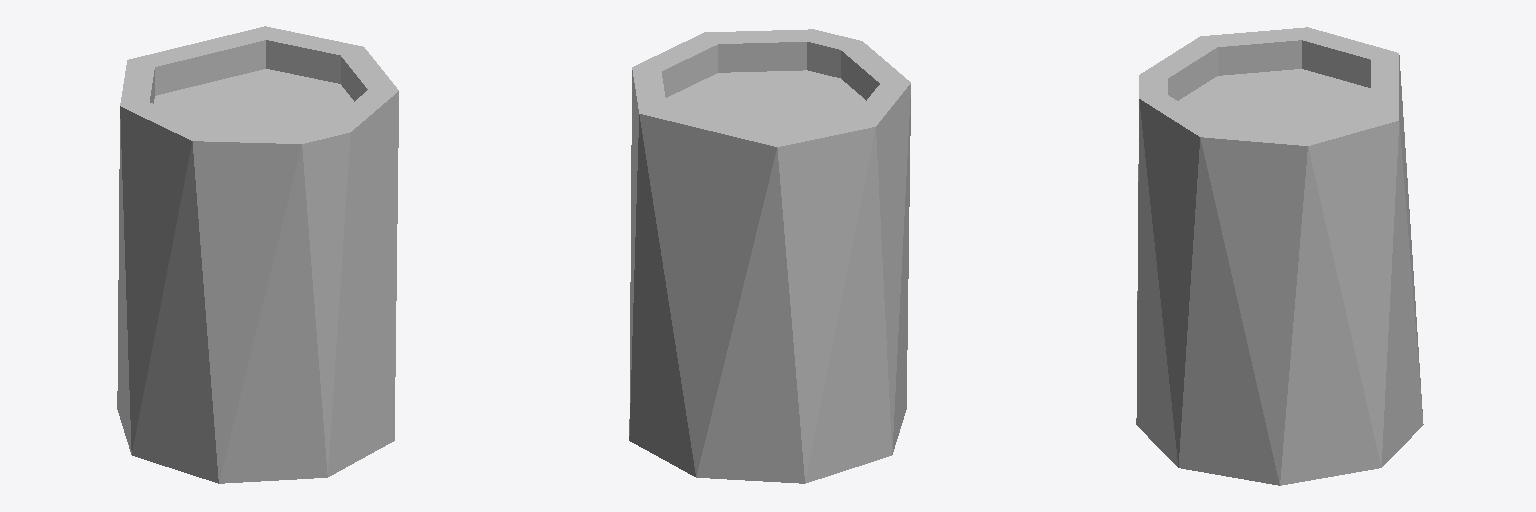
The model's file is bidon.obj.
3 renders of one model, left to right at view 1: azimuth 30°, elevation 25°; view 2: azimuth 150°, elevation 25°; view 3: azimuth 270°, elevation 25°, orthographic.
Parts seen in each view (by area): view 1: Cylinder; view 2: Cylinder; view 3: Cylinder.
Boxes of the visible parts, x1=… form: Cylinder: x1=117, y1=26, x2=398, y2=483; Cylinder: x1=629, y1=29, x2=910, y2=483; Cylinder: x1=1136, y1=27, x2=1423, y2=485.
Size of the model in its own units: 2 by 2.6 by 2.